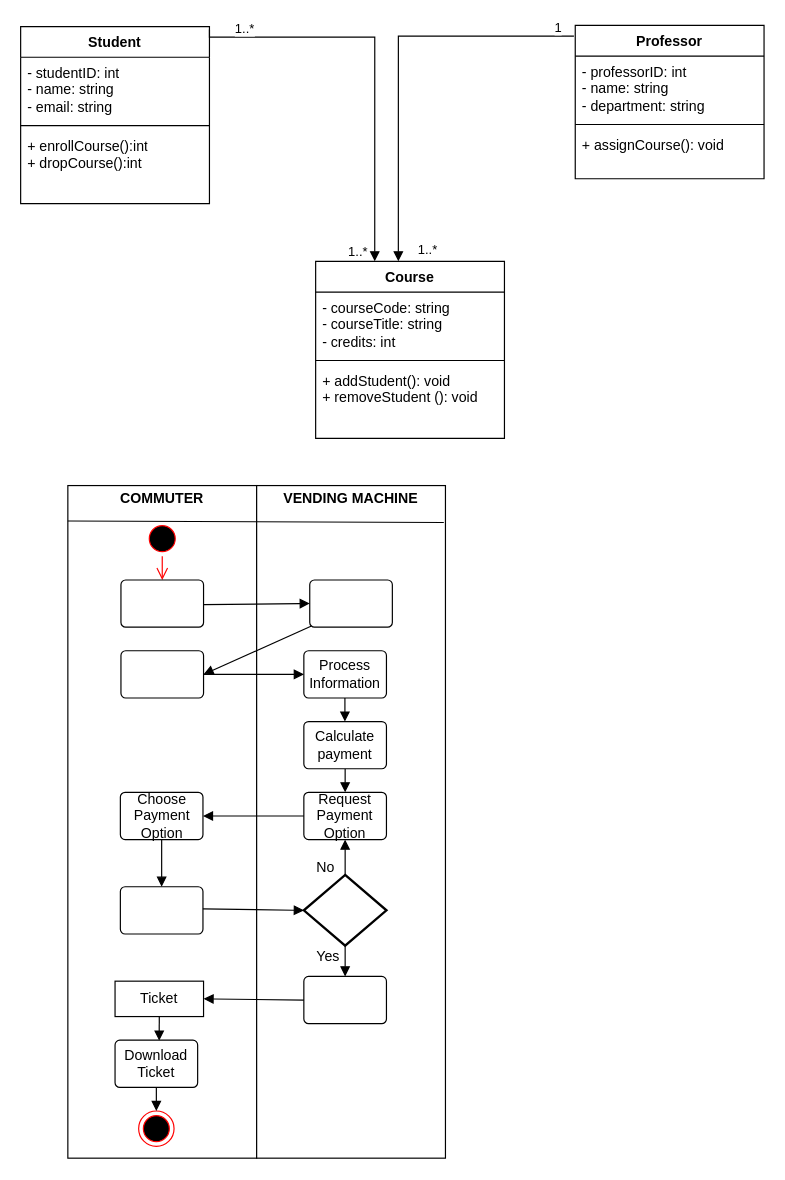
Some shapes in this 785 by 1180 pixel diagram are drawn without their labels. The shapes that lost their labels are listed below. From the top down, each one's centre as x and y in pixels, then its label:
At (162,603): "start vending machine".
At (350,603): "Ask user information".
At (162,674): "Give user information".
At (161,910): "Payment Done".
At (344,909): "Payment done?".
At (344,999): "Ticket Dispensed".
